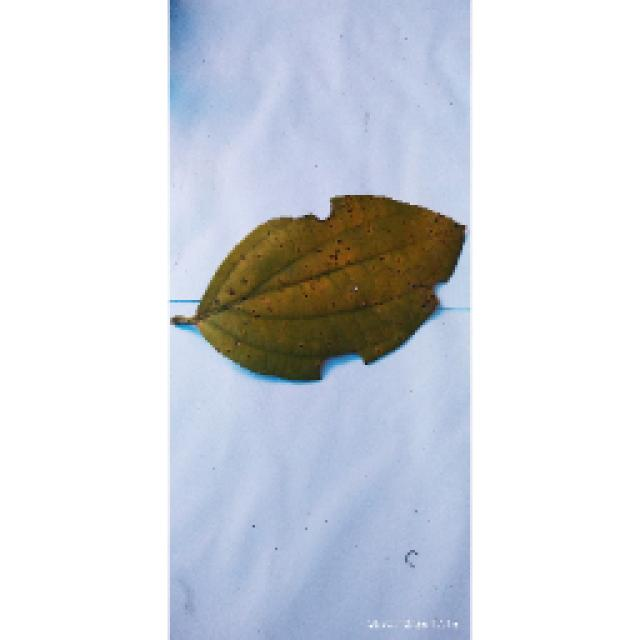slow-decline: (170, 192, 468, 378)
